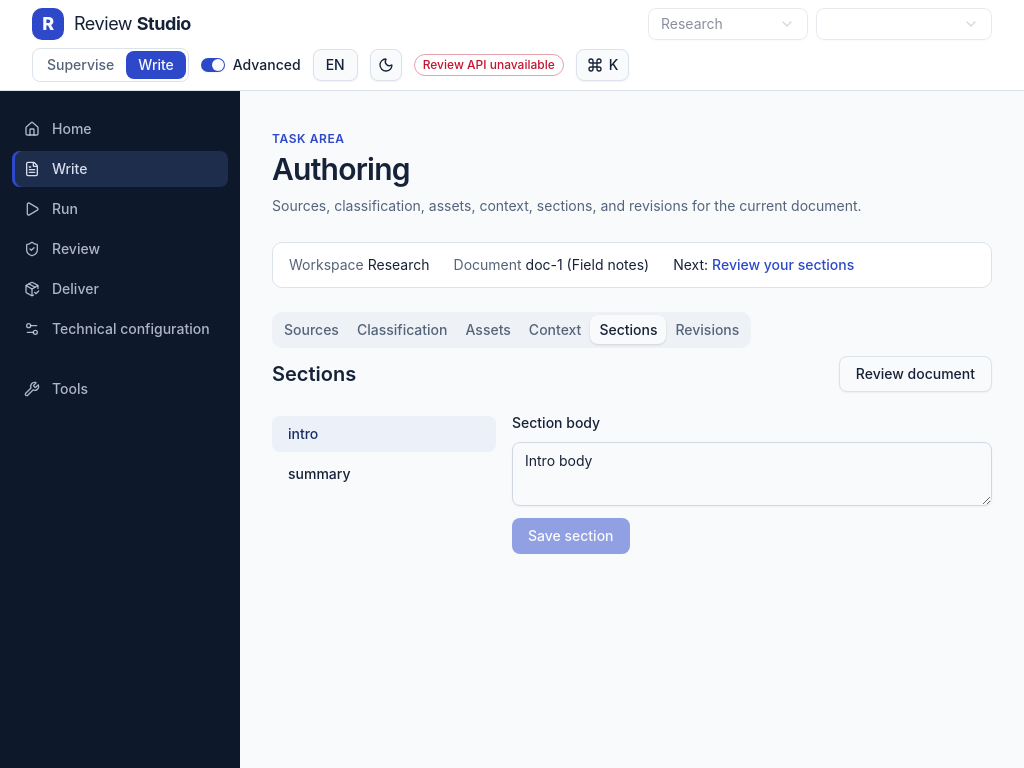
it: section editor › renders review findings as a list and jumps to the section to fix
The image size is (1024, 768).
Expected: the text box labelled "Section body" is shown, [512,442,992,506]
Click the button "Review document": x=915, y=374 [839,356,992,392]
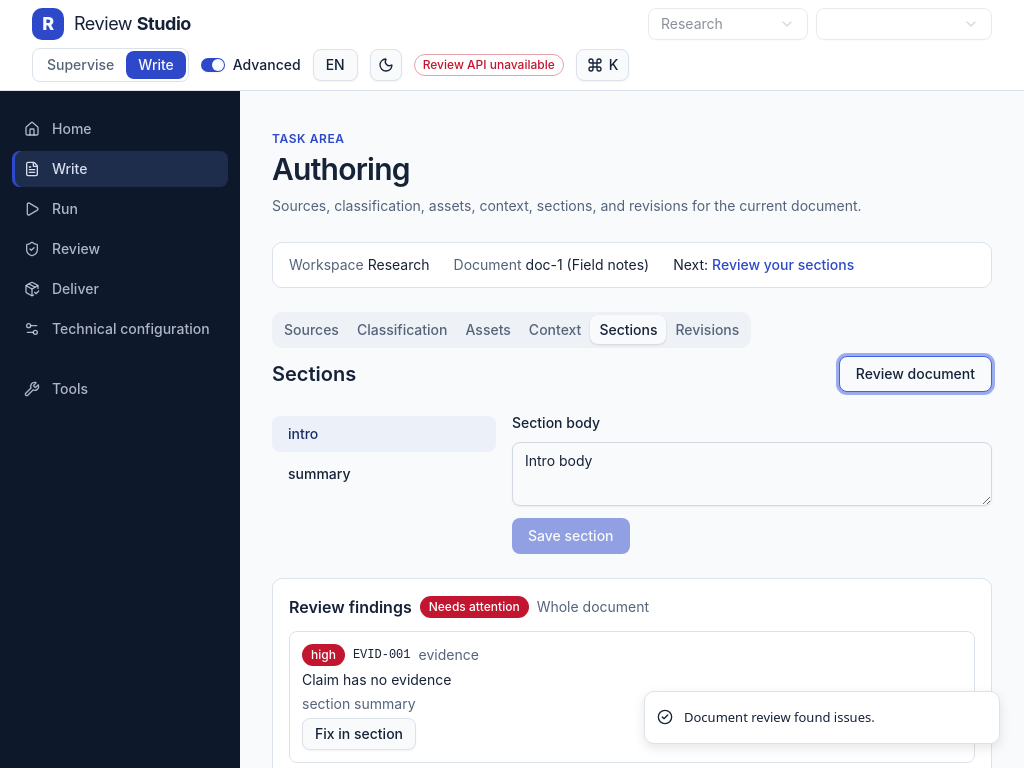
Expected: the list item that starts with "high" is shown, [311,647,336,662]
Expected: the list item that starts with "high" shows "Claim has no evidence", [302,671,452,688]
Expected: the list item that starts with "high" shows "EVID-001", [353,648,410,662]
Click the button with aria-label "Fix in section summary": x=359, y=734 [302,718,416,750]
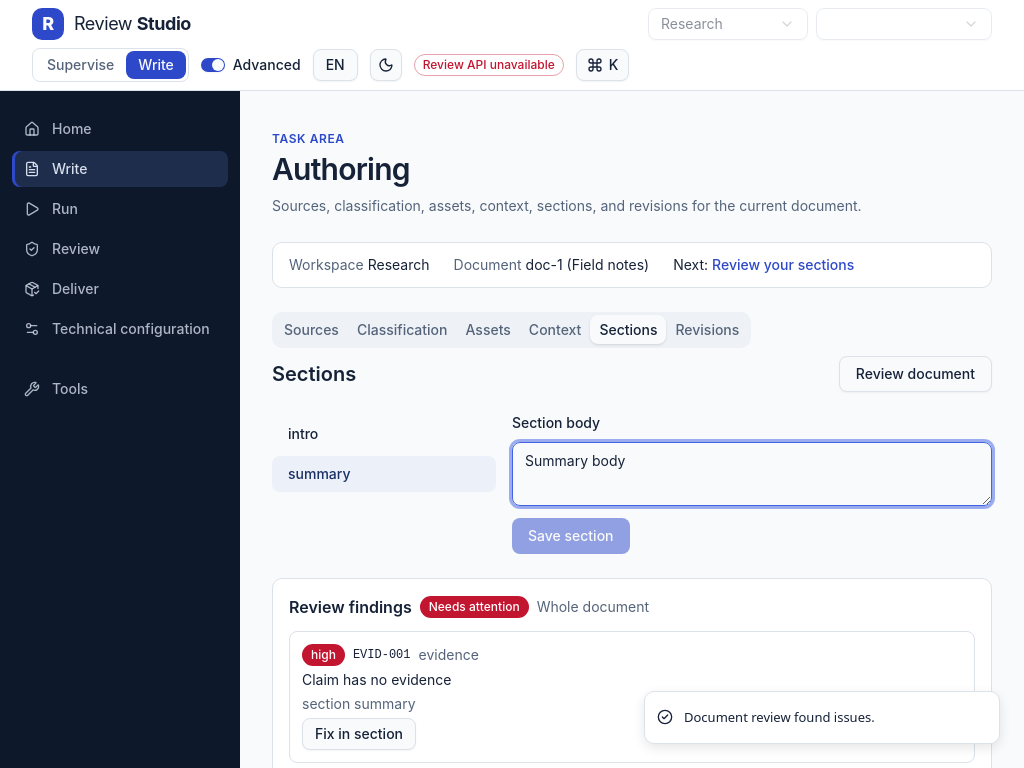
Expected: the text box labelled "Section body" holds "Summary body", [512,442,992,506]
